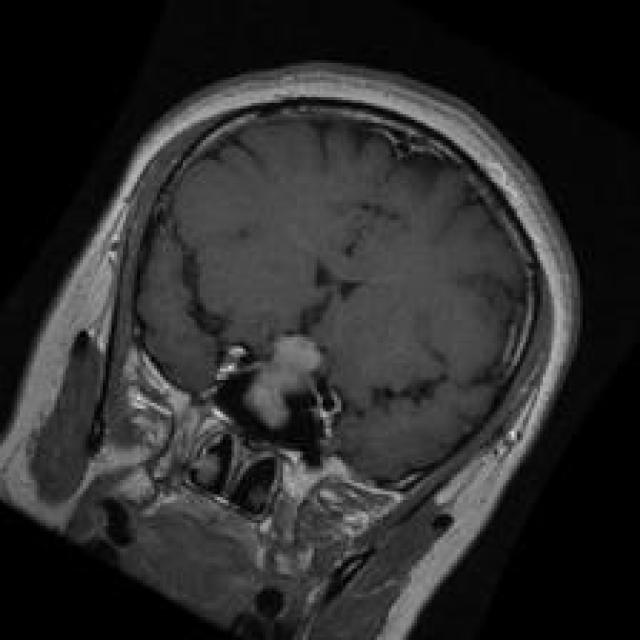pituitary_tumor: (226, 321, 341, 441)
